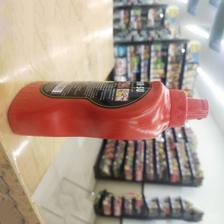Chinsu: (6, 80, 210, 139)
